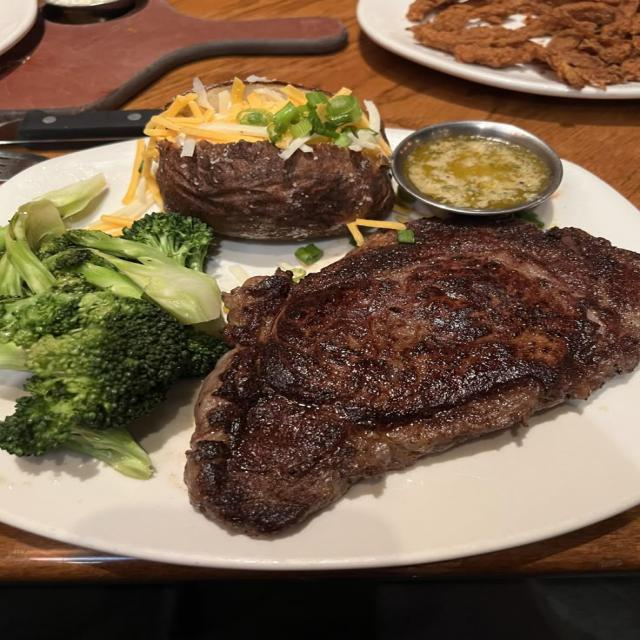beef steak: (185, 219, 639, 536)
broccoli: (0, 203, 227, 478), (0, 291, 226, 478), (66, 230, 220, 324), (43, 244, 143, 298), (123, 213, 213, 271)
